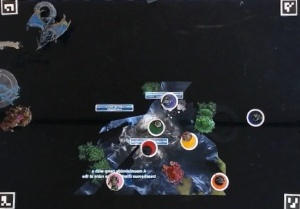blue: (247, 107, 267, 129)
green: (147, 119, 167, 136)
orange: (210, 171, 232, 189)
pink: (106, 170, 124, 191)
red: (139, 138, 159, 157)
violet: (161, 92, 180, 111)
yellow: (179, 129, 199, 151)
